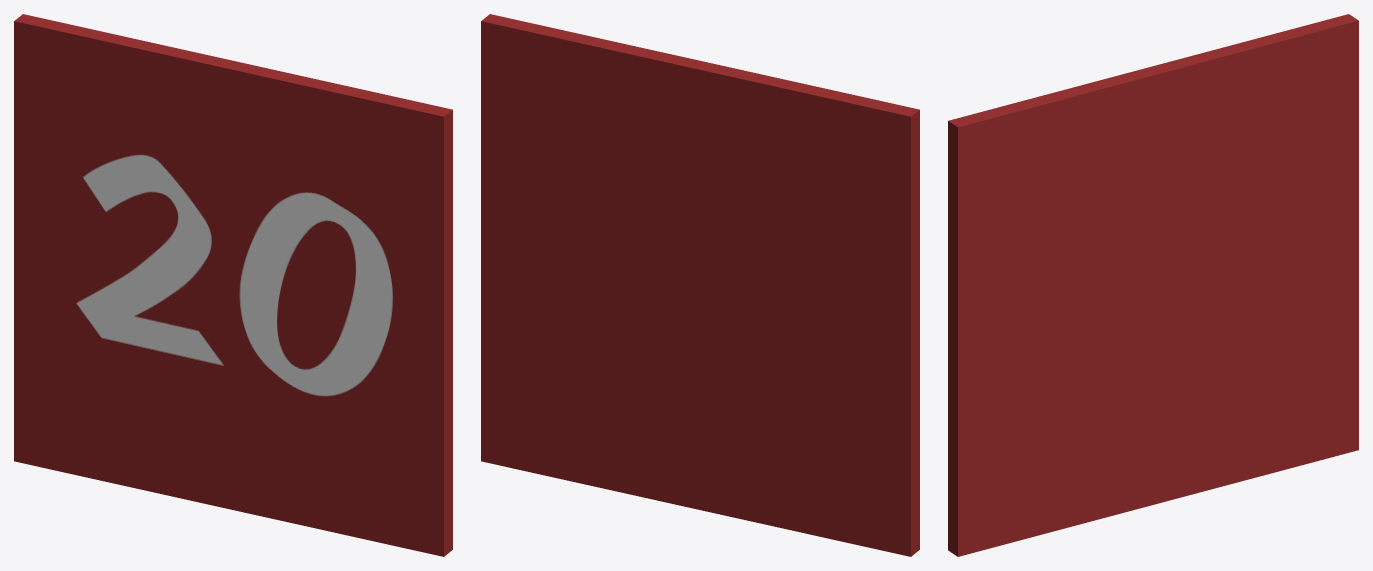
File: flap19.glb
3 renders of one model, left to right at view 1: azimuth 30°, elevation 25°; view 2: azimuth 210°, elevation 25°; view 3: azimuth 270°, elevation 25°, orthographic. The views are drawn at different scales.
Visible parts, largest first — view 1: flap.019; view 2: flap.019; view 3: flap.019.
Boxes of the visible parts, x1,y1,x2,y2 form: flap.019: (14, 14, 452, 556); flap.019: (481, 14, 919, 556); flap.019: (948, 14, 1358, 556).
Size of the model in its own units: 0.1417 by 0.25 by 0.2167.
Materials: 1 (1 with a texture image).
